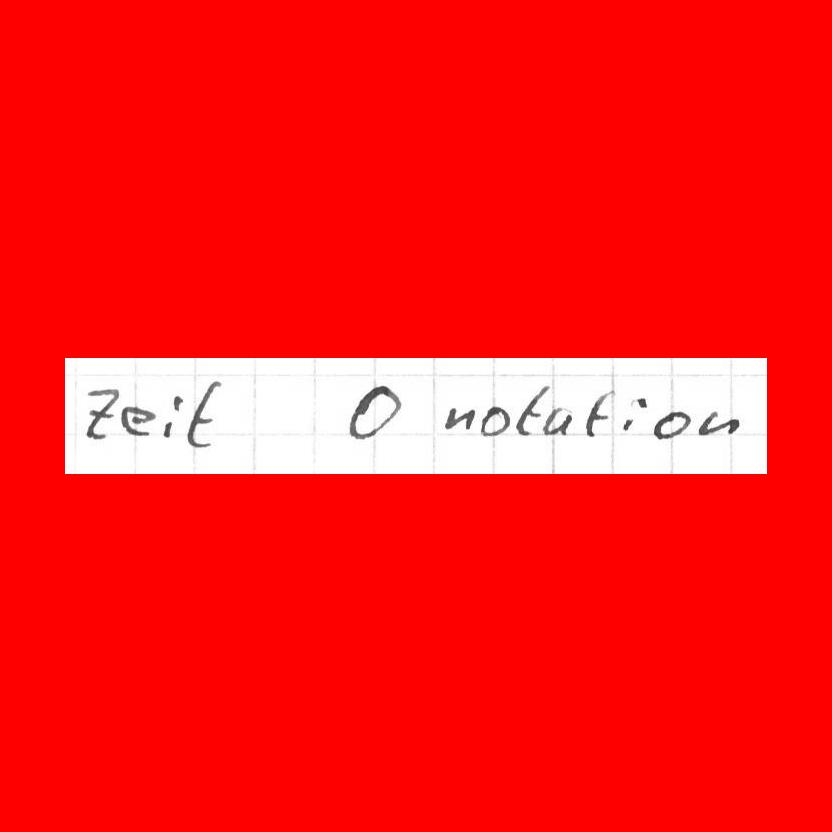Char: (347, 382, 400, 439), (188, 378, 224, 447), (84, 384, 117, 439), (513, 385, 546, 436), (695, 409, 744, 439), (583, 390, 612, 438), (651, 409, 694, 441), (119, 403, 154, 436), (481, 405, 512, 439), (443, 404, 475, 434), (621, 395, 647, 431), (542, 406, 572, 437), (160, 397, 181, 441)
